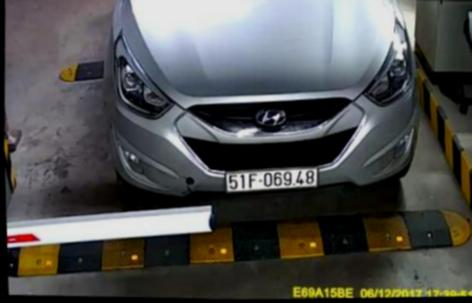License_Plate: (217, 156, 325, 198)
